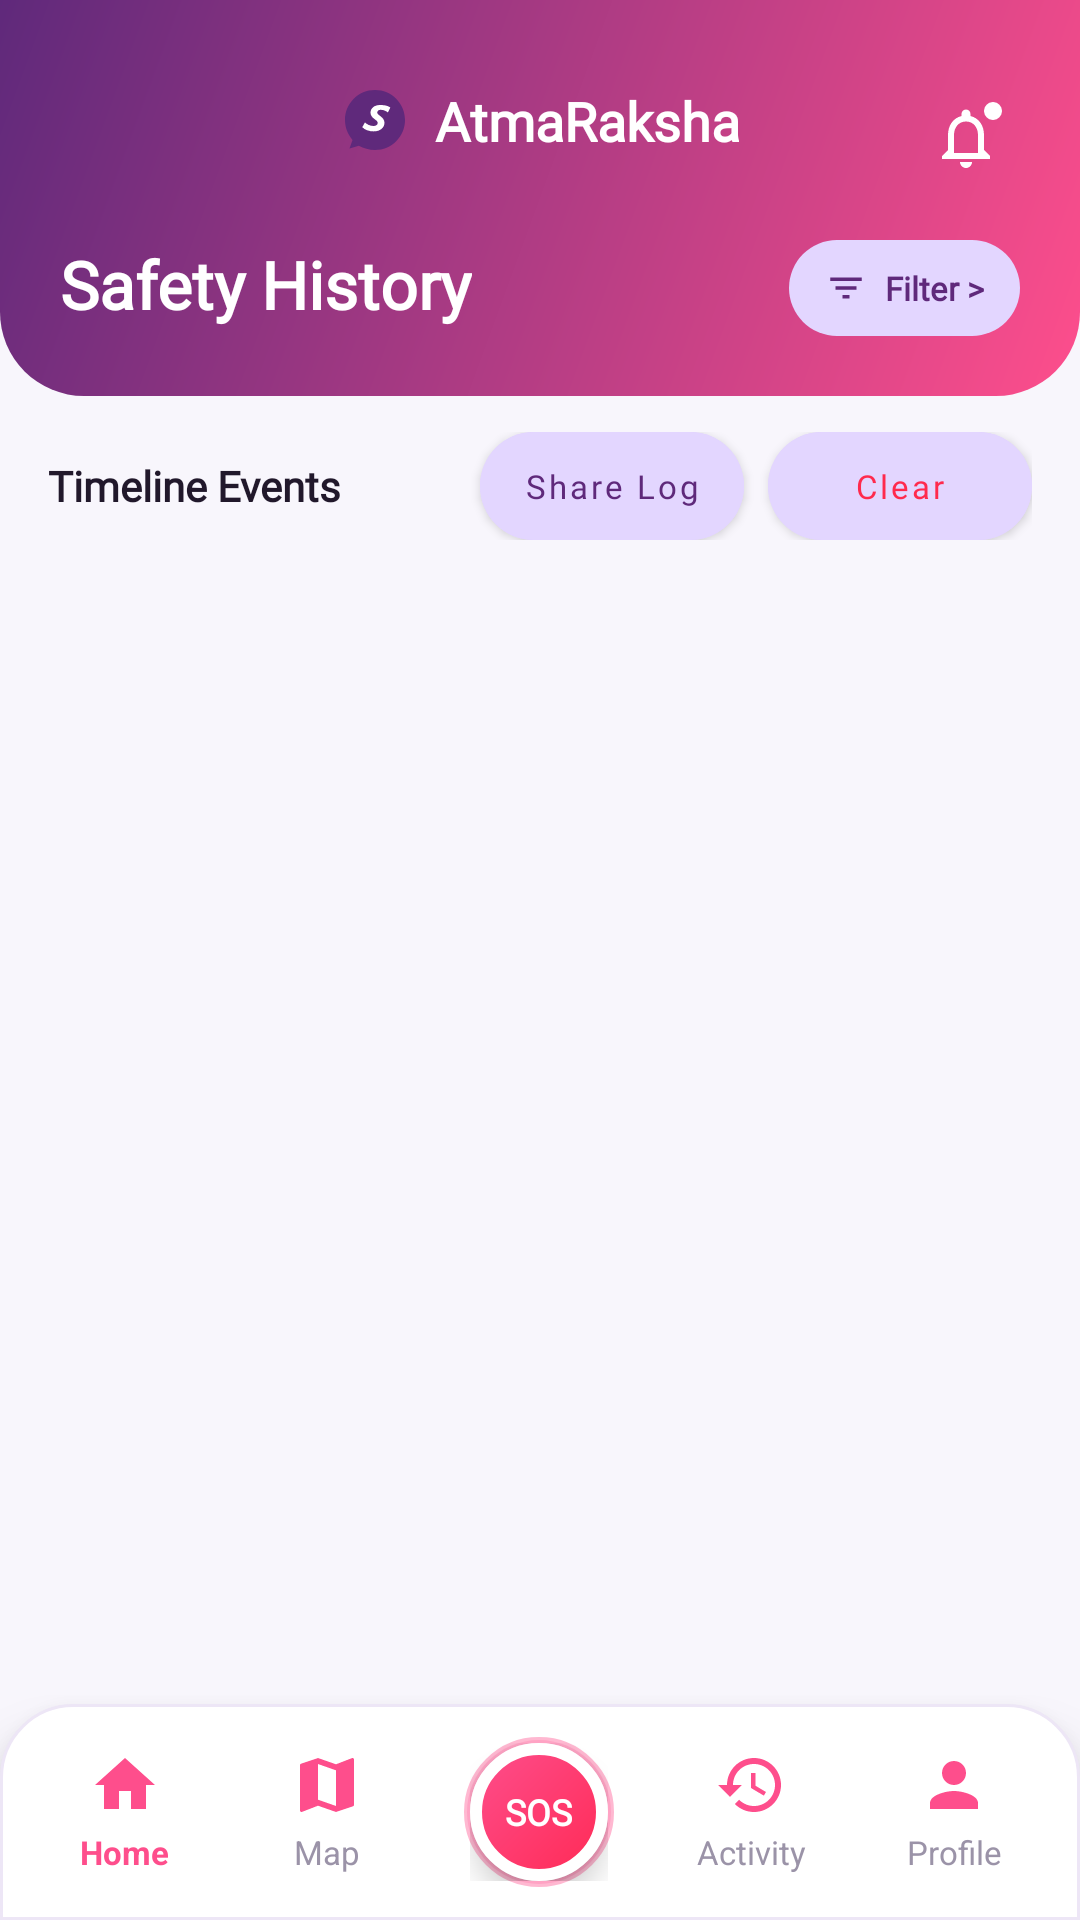

Named icons in this screenshot (1080w x 1920h) and their centers, (x,y):
notification bell: (972,135)
